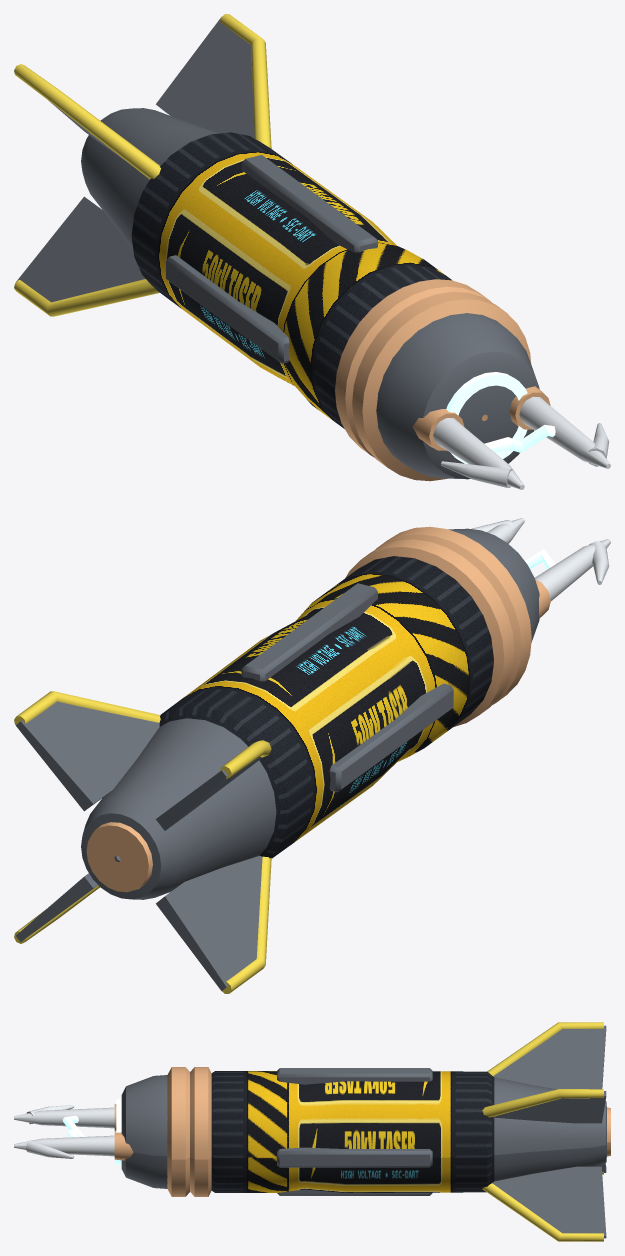
File: proj_taser_dart.glb
3 renders of one model, top to bottom at view 1: azimuth 30°, elevation 25°; view 2: azimuth 150°, elevation 25°; view 3: azimuth 270°, elevation 25°, orthographic. The views are drawn at different scales.
Parts seen in each view (by area): view 1: proj_taser_dart; view 2: proj_taser_dart; view 3: proj_taser_dart.
Boxes of the visible parts, x1,y1,x2,y2 form: proj_taser_dart: [14, 14, 610, 489]; proj_taser_dart: [14, 518, 610, 993]; proj_taser_dart: [14, 1022, 610, 1241].
Bounding box in the file's own units: 0.0734 × 0.0735 × 0.261.
Materials: 6 (1 with a texture image).
